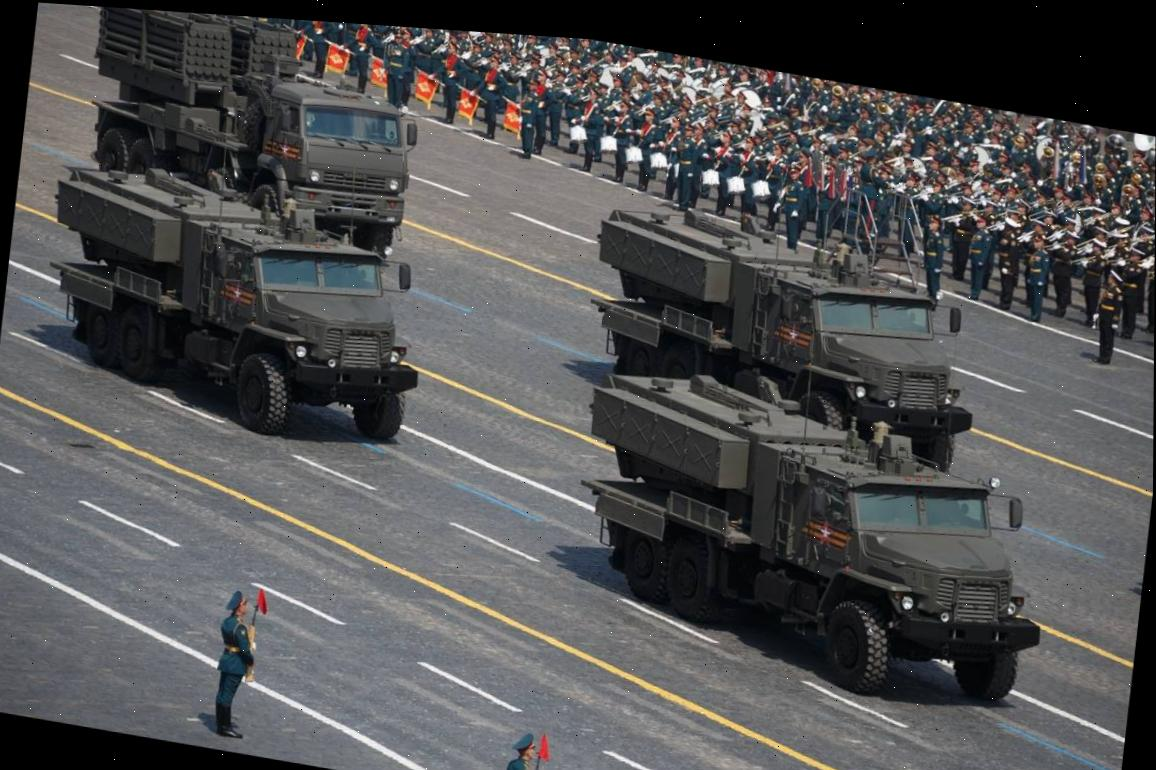truck: (562, 347, 1053, 724), (31, 140, 432, 464), (577, 187, 994, 474)
